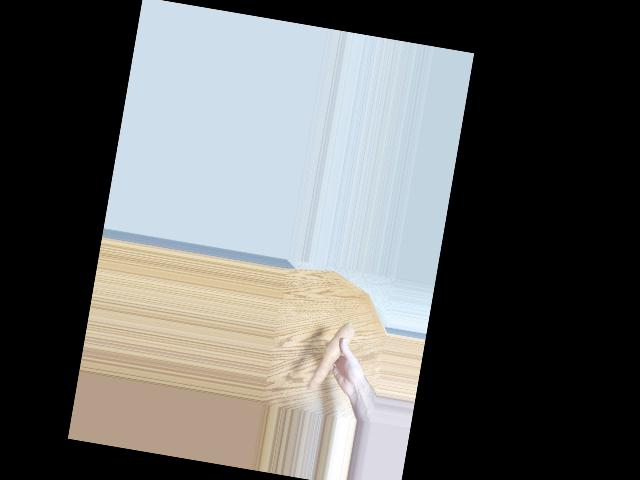sweet_potato: (312, 315, 348, 395)
